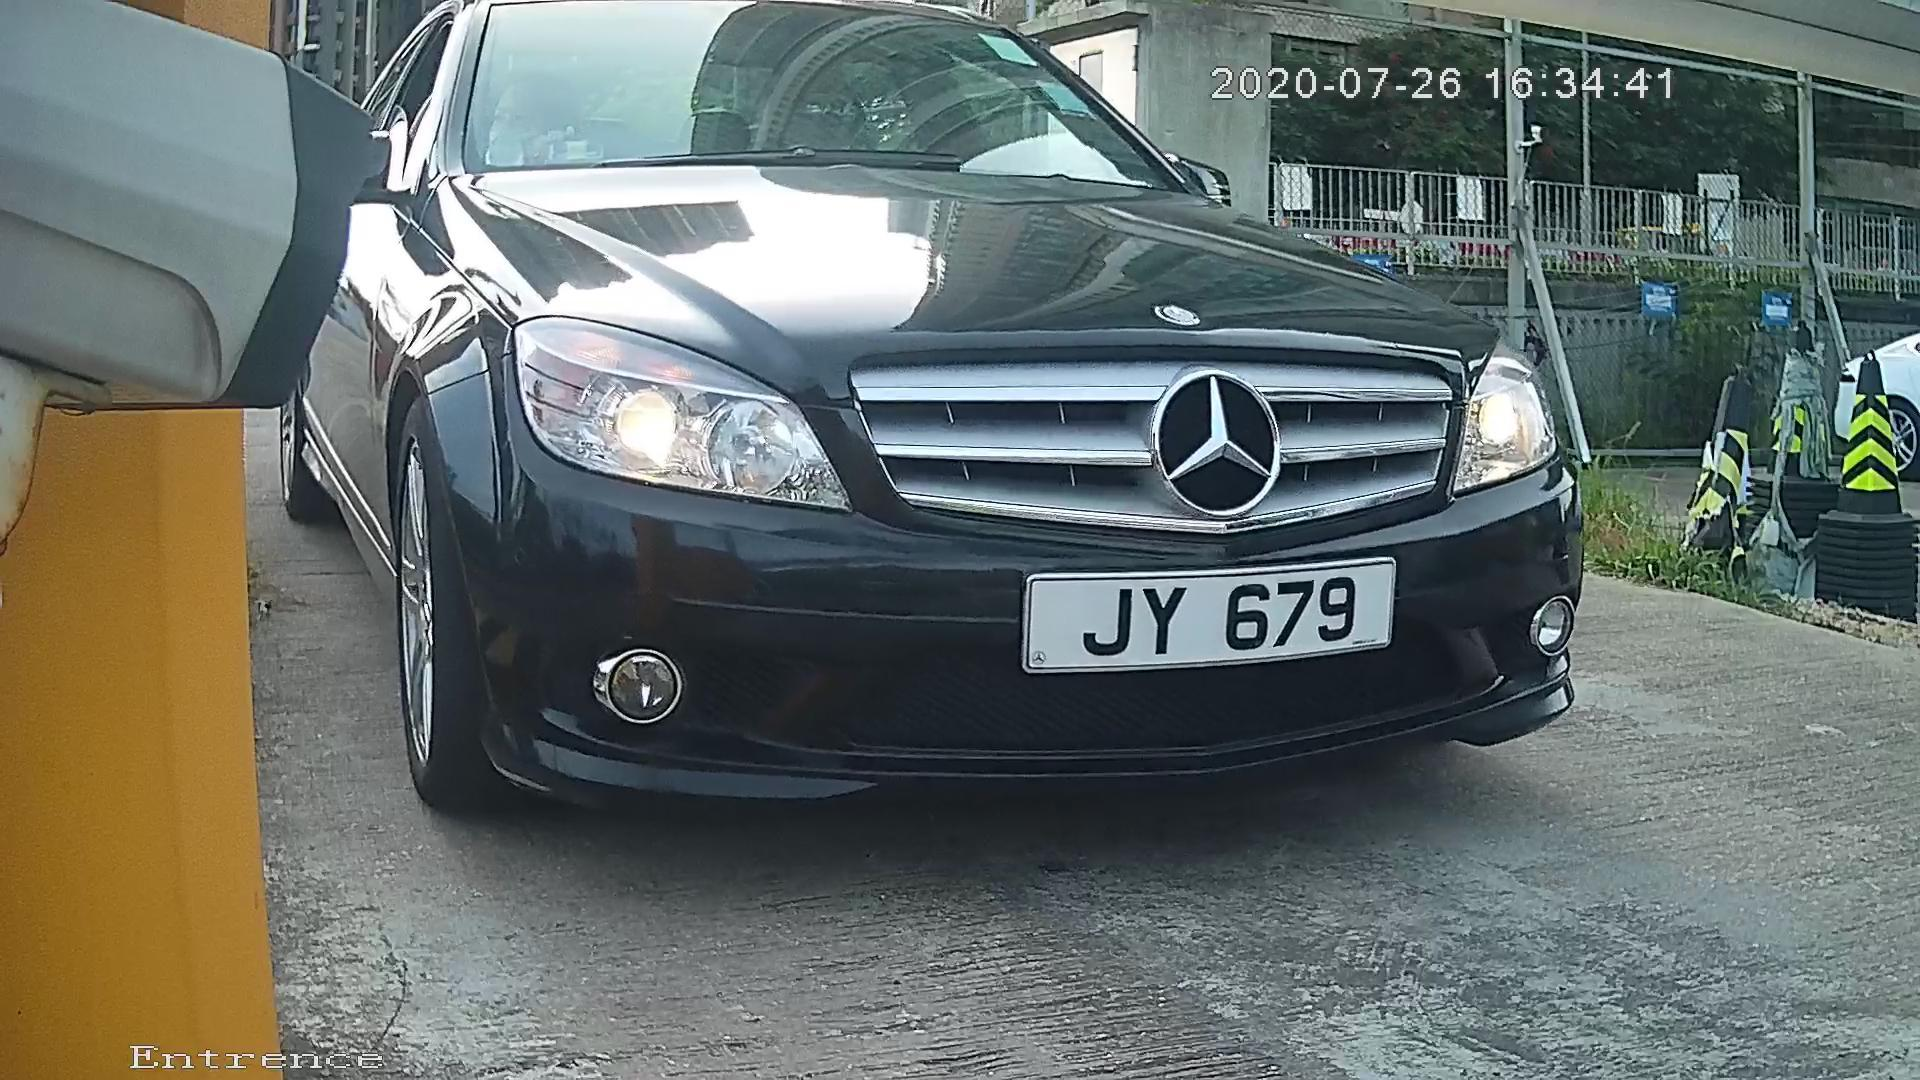privatecar: (198, 11, 1801, 884)
